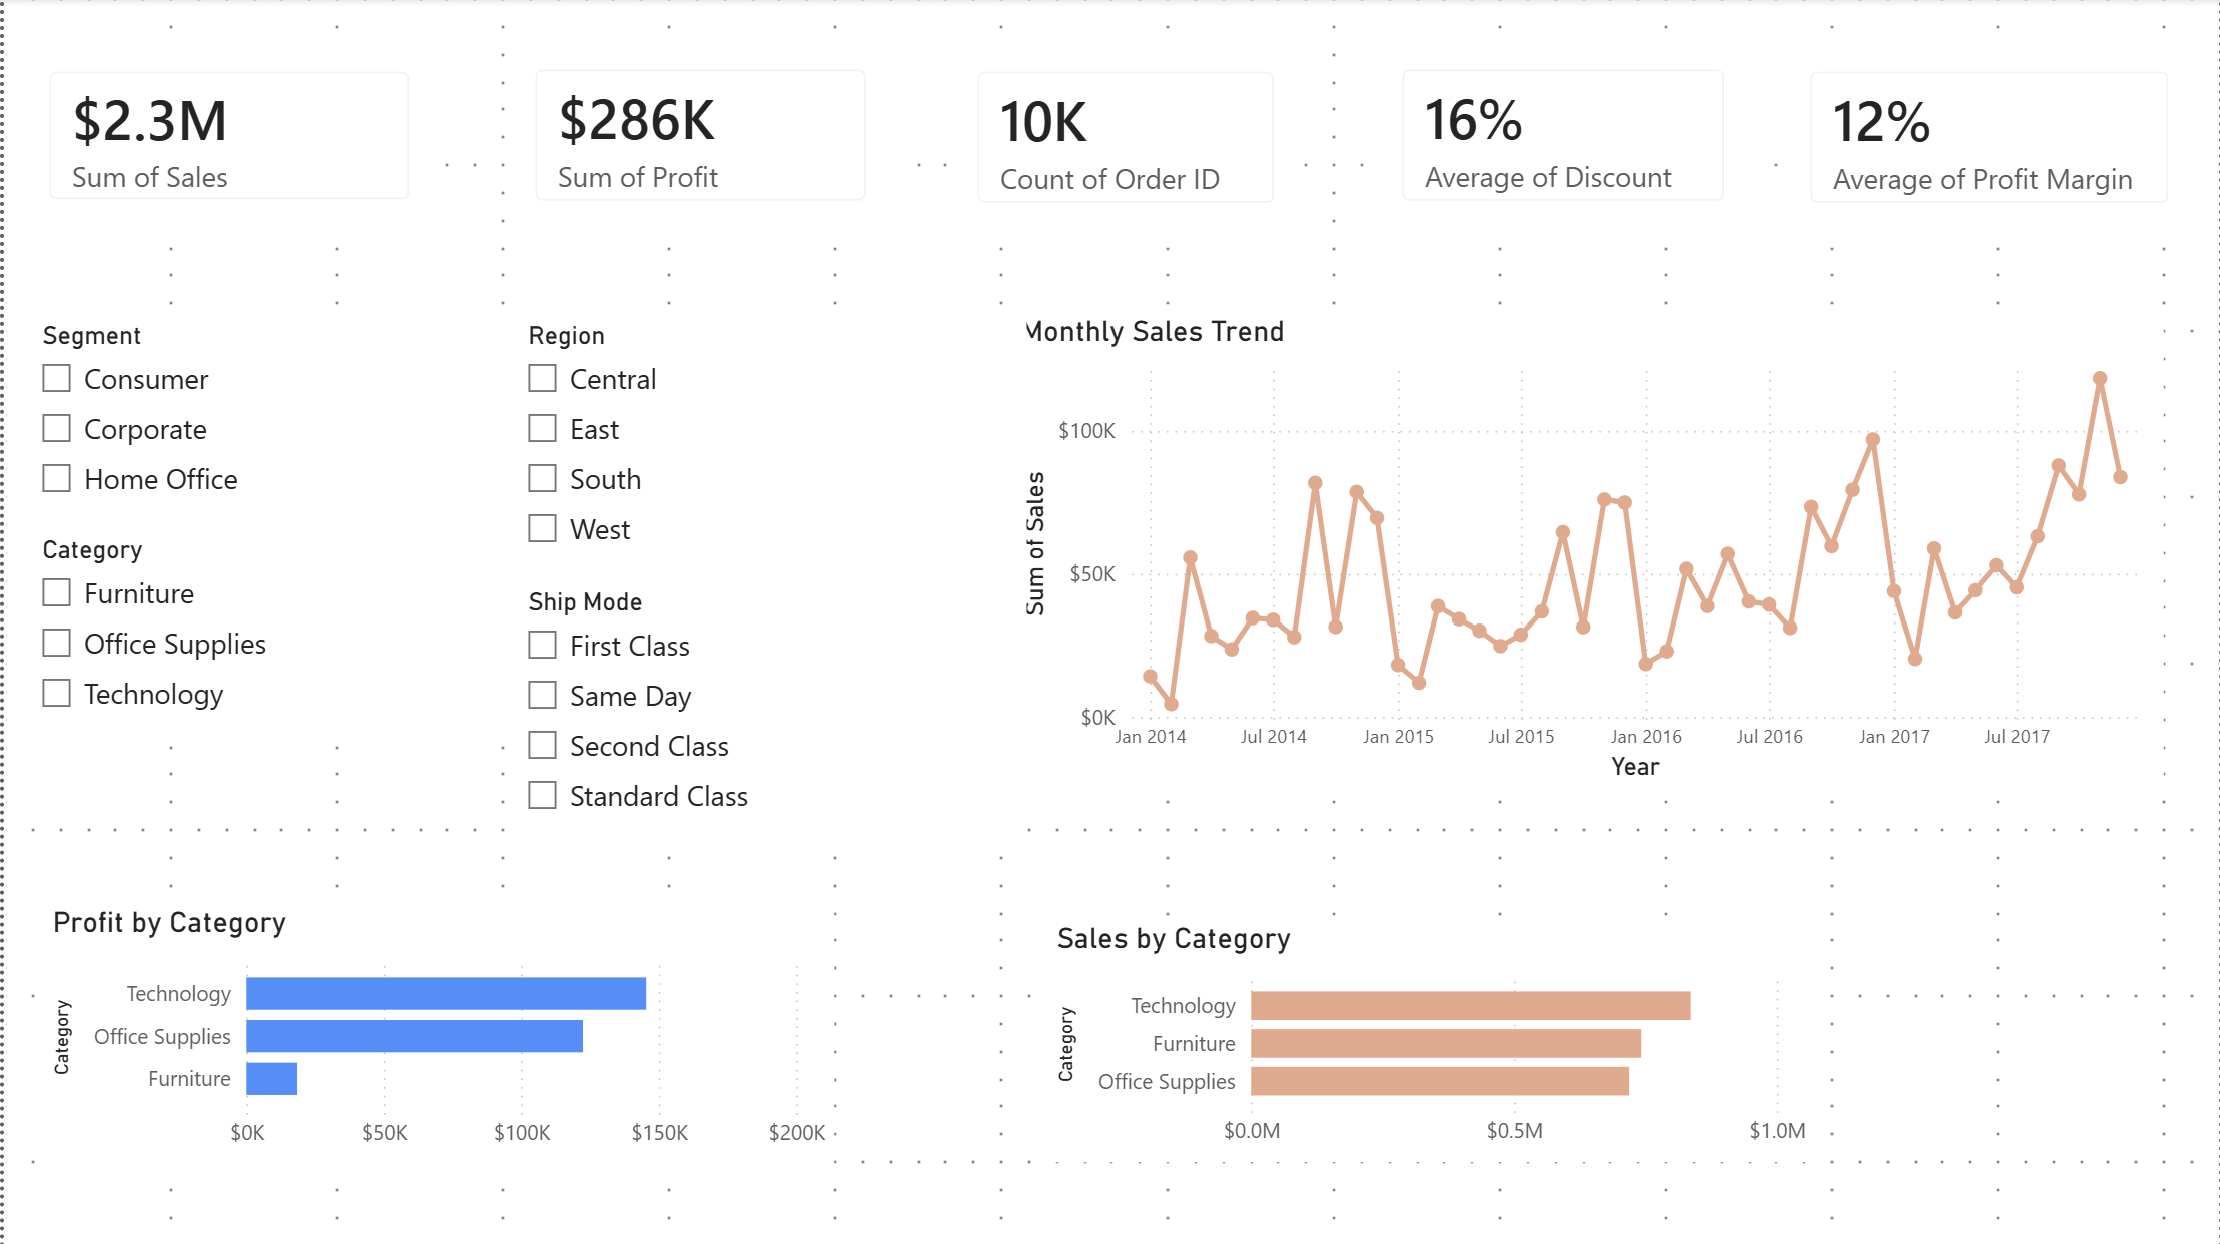

This screenshot's page, from the dashboard's own definition file:
{"tool":"powerbi","page":{"name":"Executive Summary","canvas":[1280,720],"ordinal":0},"visuals":[{"type":"cardVisual","title":"Total Sales","fields":{"Data":["Sum(superstore_cleaned.Sales)"]},"box":[8.8,25,242.5,108.8],"z":0},{"type":"cardVisual","fields":{"Data":["CountNonNull(superstore_cleaned.Order ID)"]},"box":[546.2,25,205,110],"z":1000},{"type":"cardVisual","fields":{"Data":["Sum(superstore_cleaned.Profit)"]},"box":[290,23.8,225,110],"z":2000},{"type":"cardVisual","fields":{"Data":["Avg(superstore_cleaned.Discount)"]},"box":[791.2,23.8,220,110],"z":3000},{"type":"cardVisual","fields":{"Data":["Avg(superstore_cleaned.Profit Margin)"]},"box":[1027.5,25,241.2,110],"z":4000},{"type":"barChart","title":"Sales by Category","fields":{"Y":["Sum(superstore_cleaned.Sales)"],"Category":["superstore_cleaned.Category"]},"box":[604.2,533.8,442.9,139.5],"z":5000},{"type":"barChart","title":"Profit by Category","fields":{"Y":["Sum(superstore_cleaned.Profit)"],"Category":["superstore_cleaned.Category"]},"box":[23,523.5,457,149.8],"z":6000},{"type":"lineChart","title":"Monthly Sales Trend","fields":{"Category":["superstore_cleaned.Order Date.Variation.Date Hierarchy.Year","superstore_cleaned.Order Date.Variation.Date Hierarchy.Quarter","superstore_cleaned.Order Date.Variation.Date Hierarchy.Month","superstore_cleaned.Order Date.Variation.Date Hierarchy.Day"],"Y":["Sum(superstore_cleaned.Sales)"]},"box":[582.6,182.3,665.5,274.1],"z":7000},{"type":"slicer","fields":{"Values":["superstore_cleaned.Segment"]},"box":[9,181.8,300.8,124.2],"z":8000},{"type":"slicer","fields":{"Values":["superstore_cleaned.Category"]},"box":[9,305.9,300.8,124.2],"z":9000},{"type":"slicer","fields":{"Values":["superstore_cleaned.Region"]},"box":[290.6,181.8,300.8,153.6],"z":10000},{"type":"slicer","fields":{"Values":["superstore_cleaned.Ship Mode"]},"box":[290.6,335.4,300.8,148.5],"z":11000}]}

Visuals, with their boxes in screenshot pixels (x1, y1, x2, y2), scaled from the page's 1280x720 canvas onto the 2220x1244 screenshot:
"Total Sales" cardVisual: (15, 43, 436, 231)
cardVisual - CountNonNull(superstore_cleaned.Order ID): (947, 43, 1303, 233)
cardVisual - Sum(superstore_cleaned.Profit): (503, 41, 893, 231)
cardVisual - Avg(superstore_cleaned.Discount): (1372, 41, 1754, 231)
cardVisual - Avg(superstore_cleaned.Profit Margin): (1782, 43, 2200, 233)
"Sales by Category" barChart: (1048, 922, 1816, 1163)
"Profit by Category" barChart: (40, 904, 832, 1163)
"Monthly Sales Trend" lineChart: (1010, 315, 2165, 789)
slicer - superstore_cleaned.Segment: (16, 314, 537, 529)
slicer - superstore_cleaned.Category: (16, 529, 537, 743)
slicer - superstore_cleaned.Region: (504, 314, 1026, 579)
slicer - superstore_cleaned.Ship Mode: (504, 579, 1026, 836)
